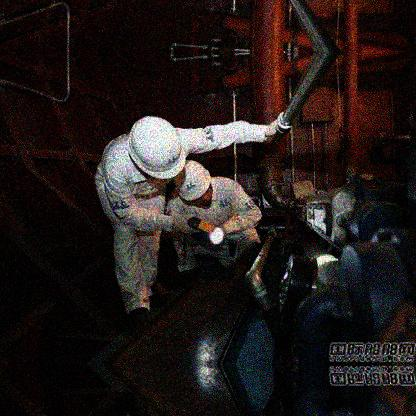helmet: (174, 161, 213, 208)
